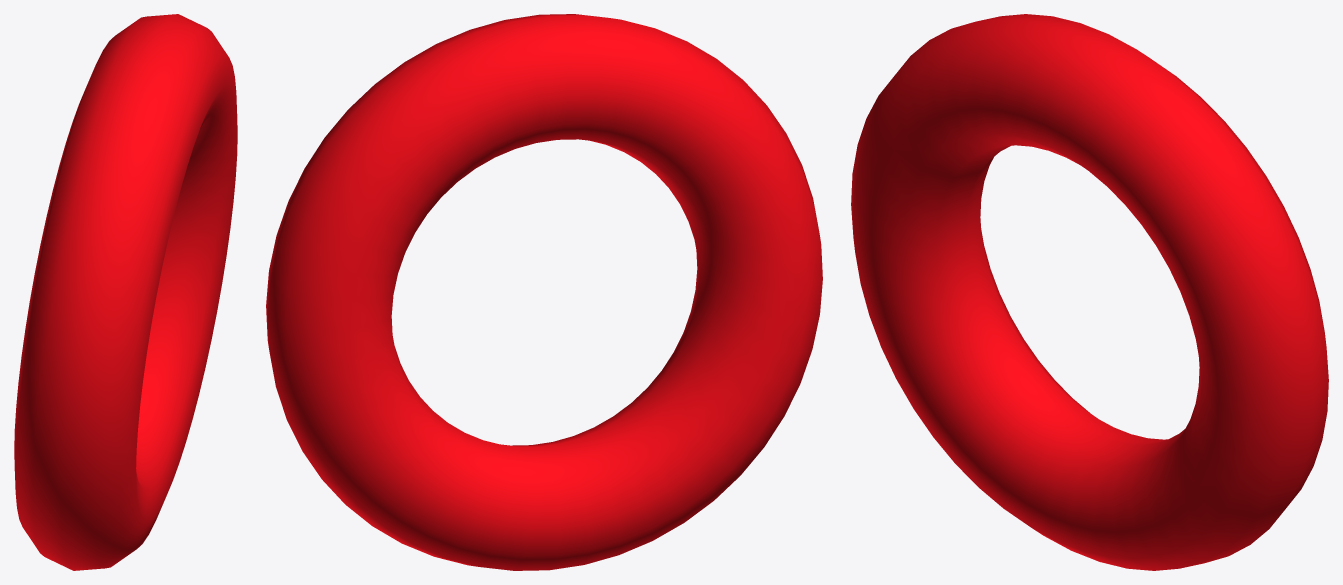
3 views of the same model, side by side, from view 1: azimuth 30°, elevation 25°; view 2: azimuth 150°, elevation 25°; view 3: azimuth 270°, elevation 25° (orthographic). The views are drawn at different scales.
Visible parts, largest first — view 1: Torus.003; view 2: Torus.003; view 3: Torus.003.
Boxes of the visible parts, left/top/right/bottom form: Torus.003: left=14, top=14, right=237, bottom=570; Torus.003: left=266, top=14, right=822, bottom=570; Torus.003: left=851, top=14, right=1328, bottom=570.
Bounding box in the file's own units: 0.8884 × 1.19 × 0.961.
